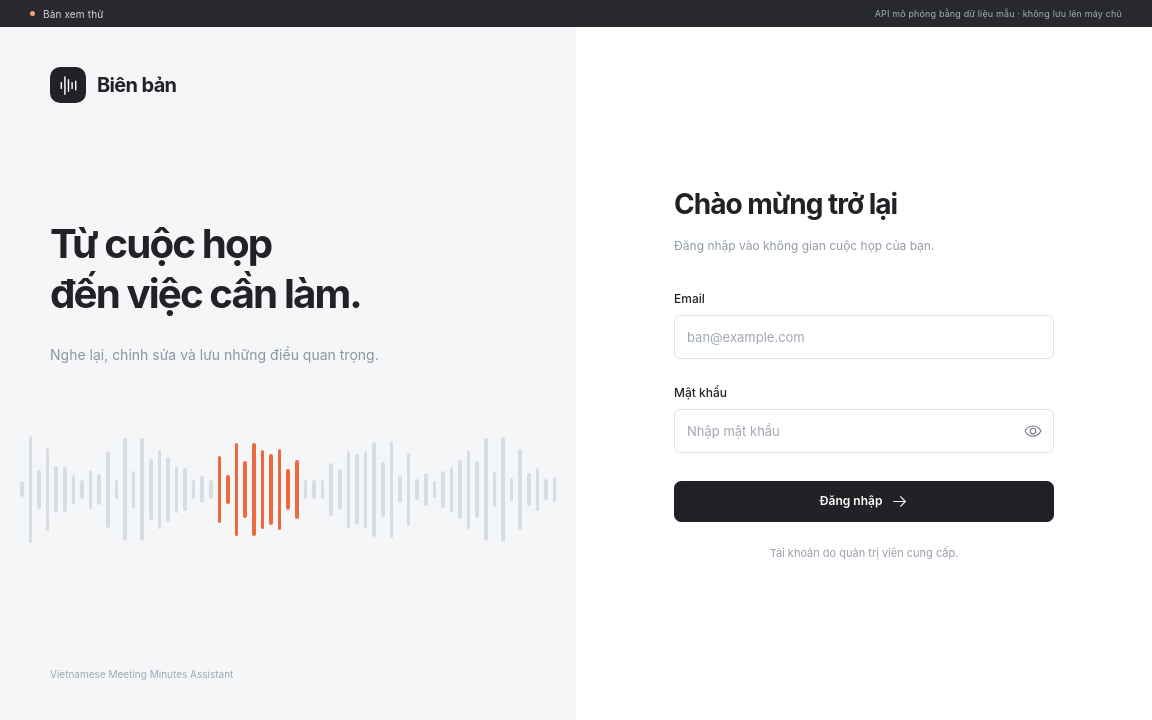
Test: meeting workspace › redirects a protected route to login and returns after API sign-in
Expected: the heading "Chào mừng trở lại" is shown, [674,187,897,221]
Type "user@example.com" into the field labelled "Email".
click(864, 337); type("user@example.com")  # box [674,315,1054,359]
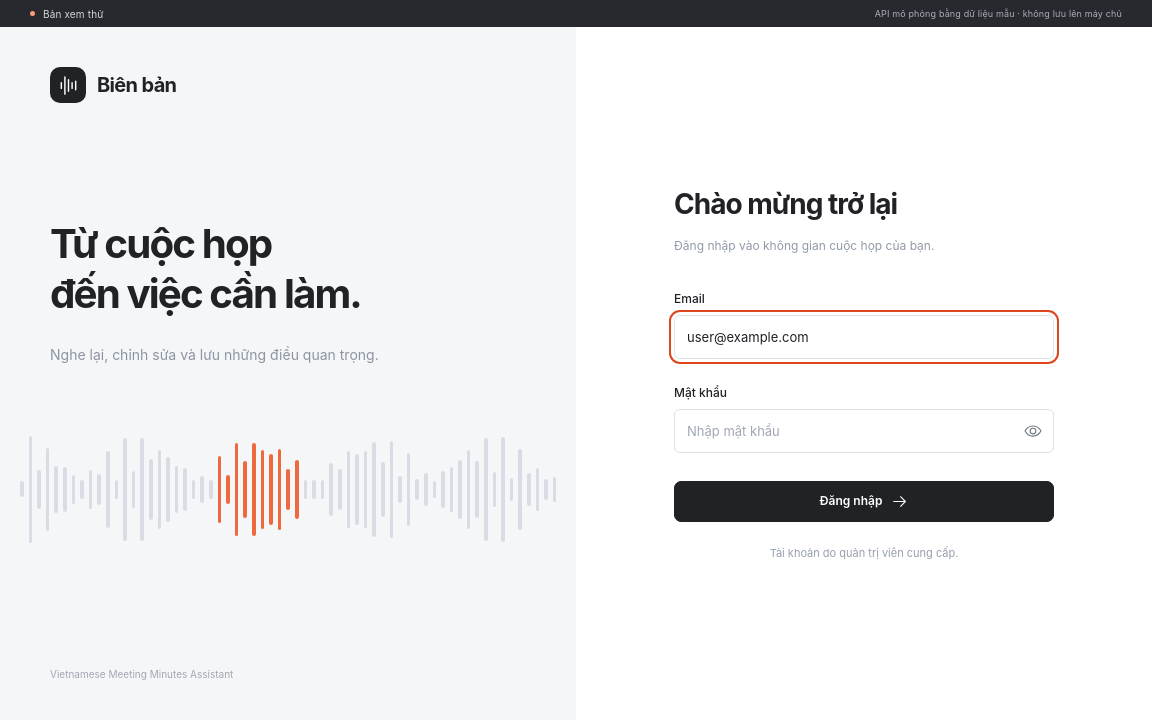
Type "demo-password" into the password field labelled "Mật khẩu".
click(864, 431); type("demo-password")  # box [674,409,1054,453]
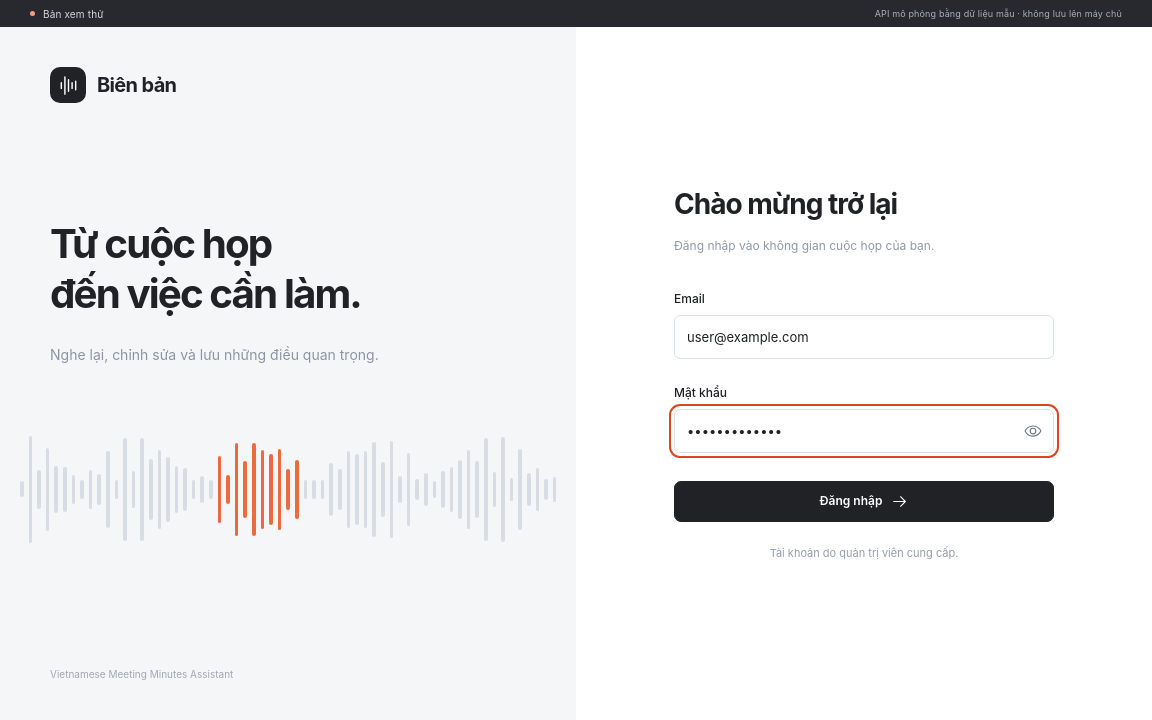
Click the button "Đăng nhập".
click(864, 501)  # box [674,481,1054,522]
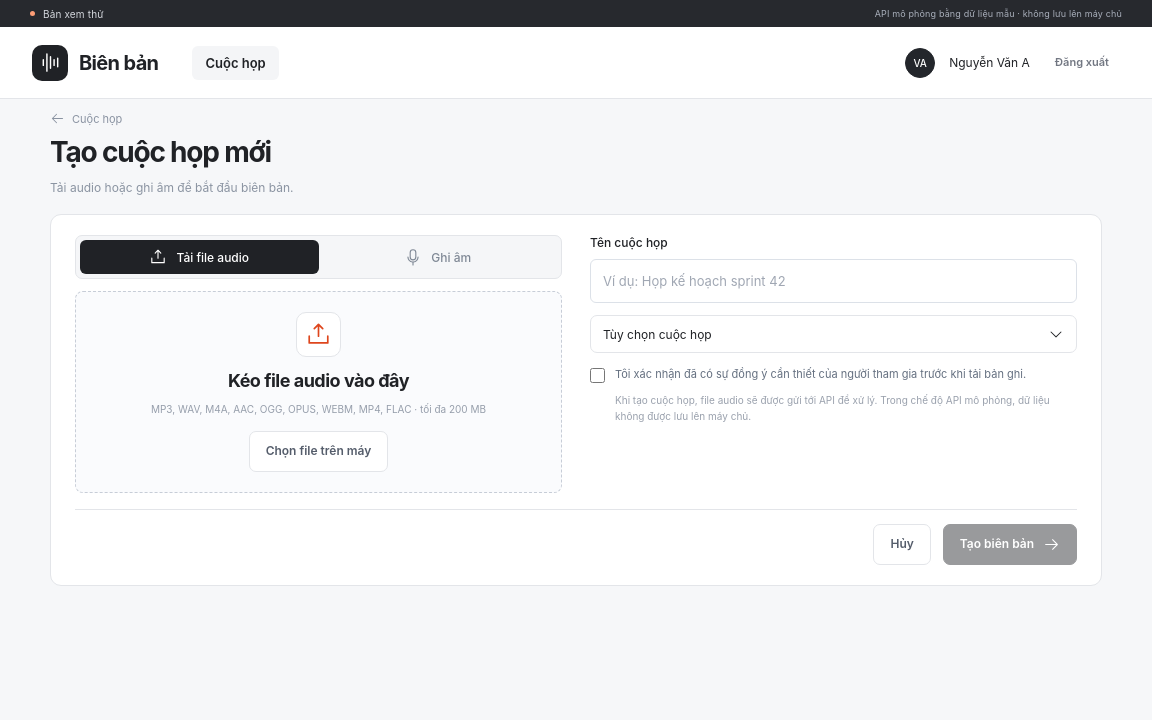
Expected: the heading "Tạo cuộc họp mới" is shown, [50,135,271,169]
